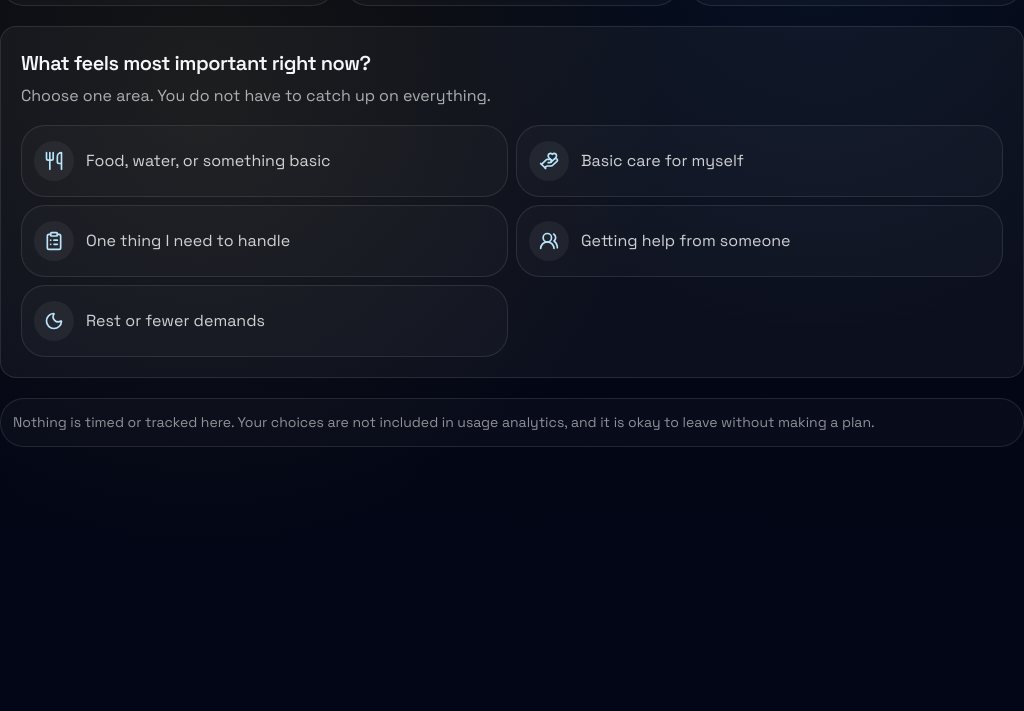
Test: LowEnergyPlanTool Rhythm integration › asks Rhythm with only the selected area and capacity, then lets the person choose its option
Click the button "Food, water, or something basic" at (264, 161), box [21,125,508,197]
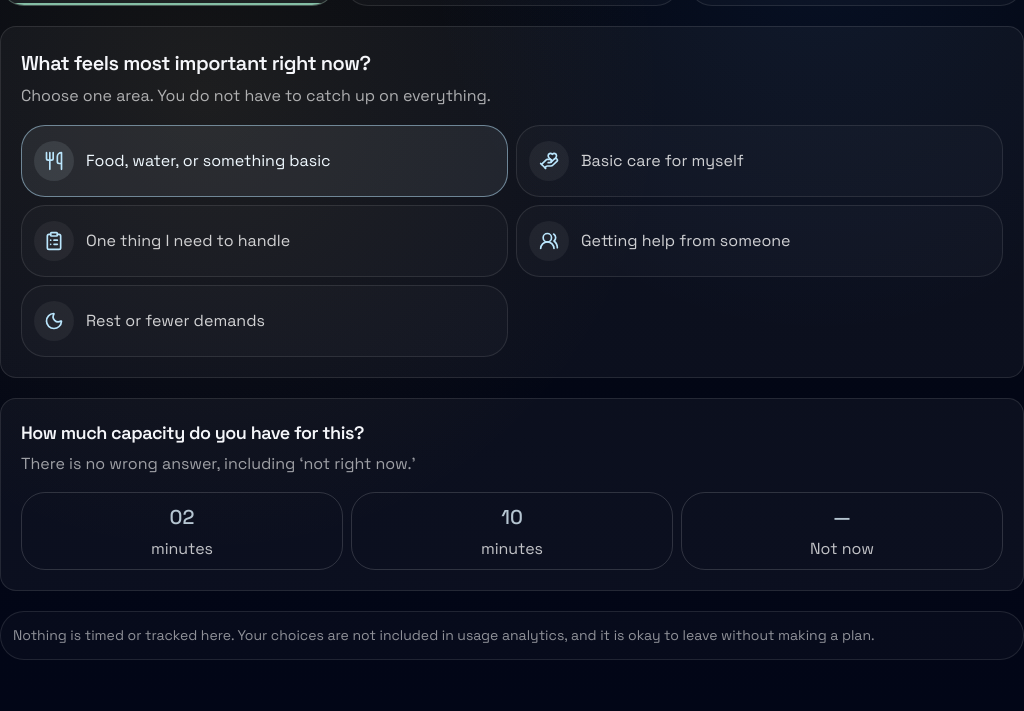
Click the button with aria-label "About 2 minutes" at (182, 531), box [21,492,343,570]
(page scrolled)
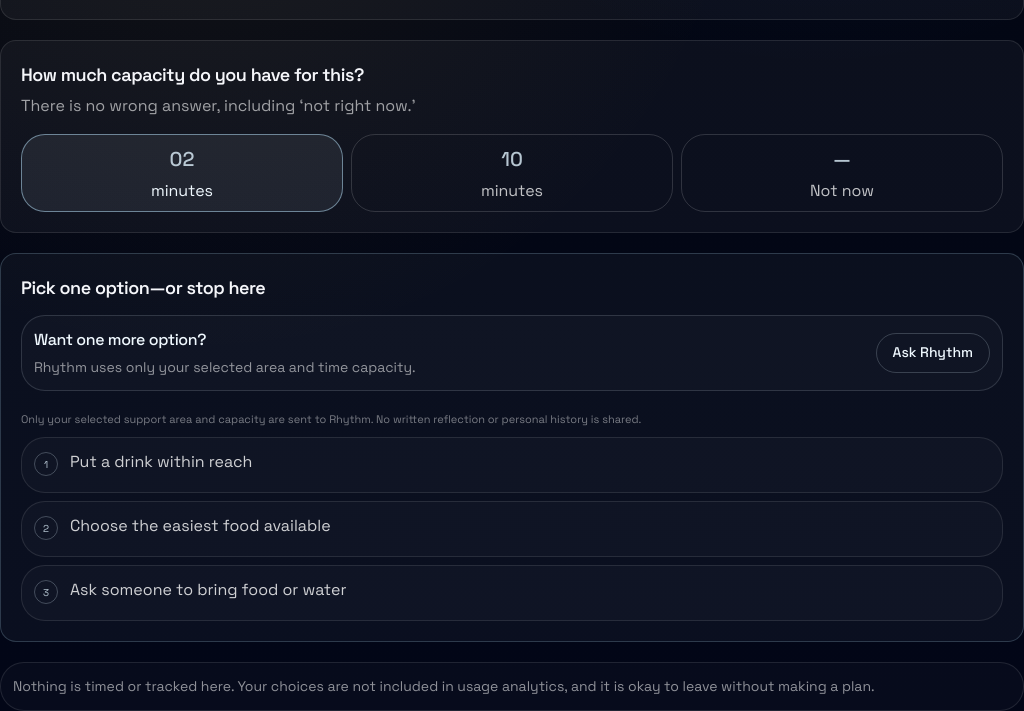
Click the button "Ask Rhythm" at (933, 353), box [876,333,990,373]
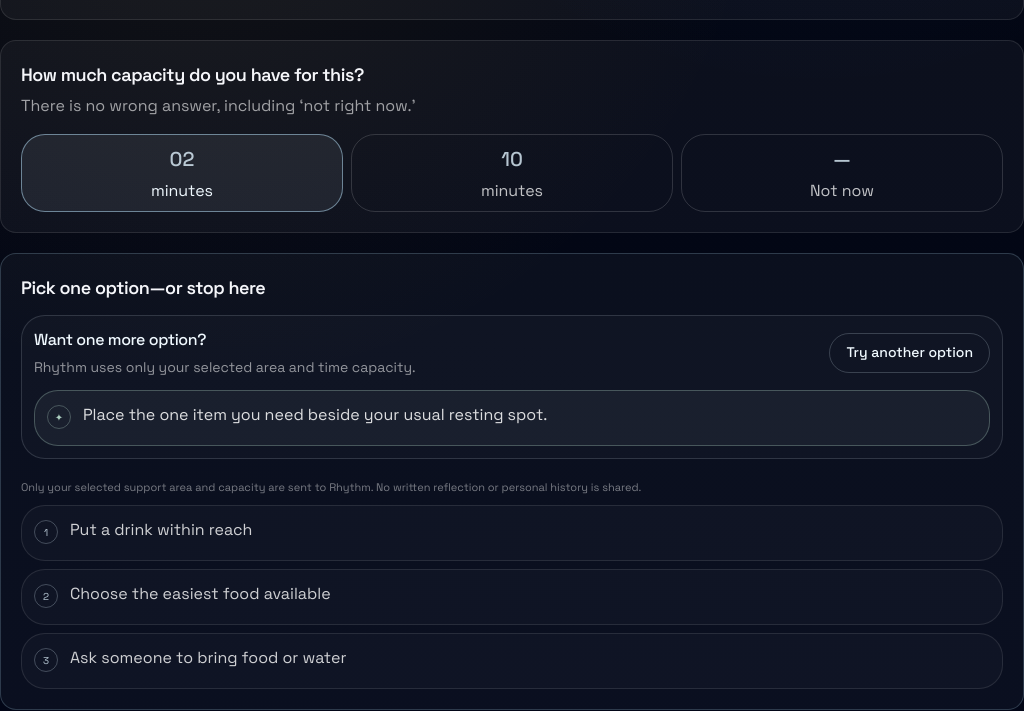
Click the button "Place the one item you need beside your usual resting spot" at (512, 418), box [34,390,990,446]
(page scrolled)
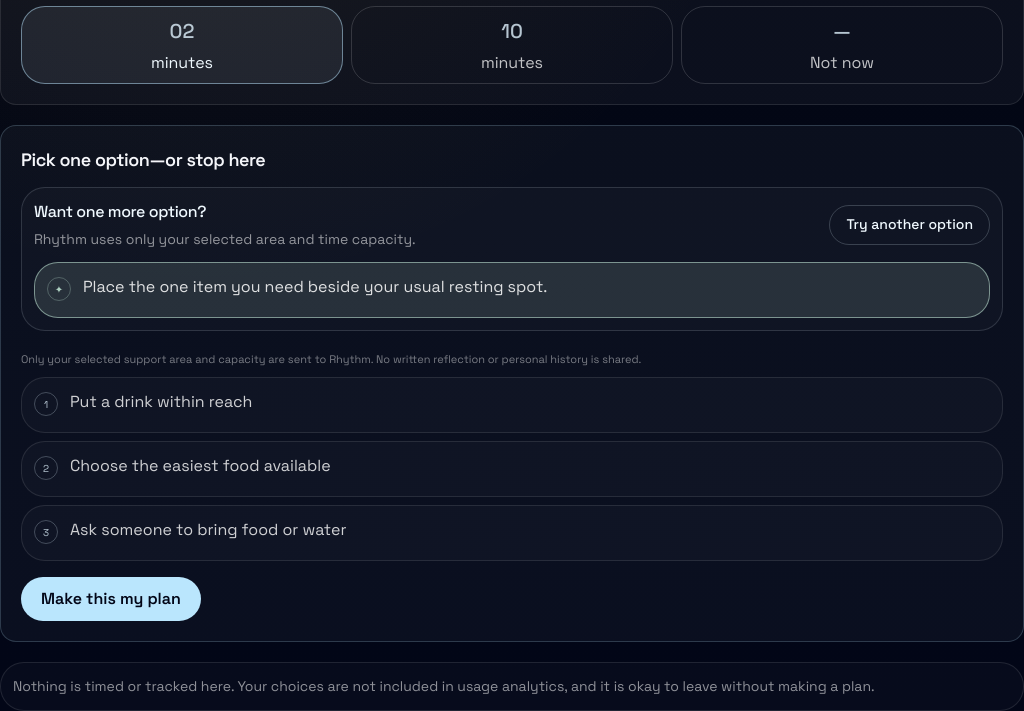
Click the button "Make this my plan" at (111, 599), box [21,577,201,621]
(page scrolled)
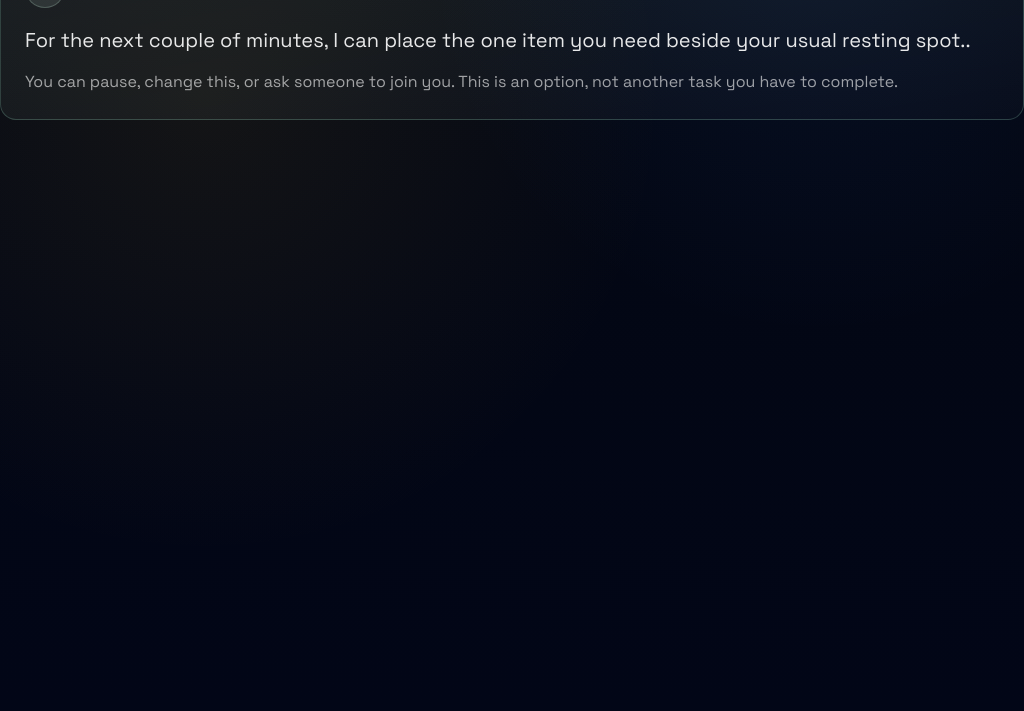
Now the text "Place the one item you need beside your usual resting spot" is shown, box [384,27,965,53]
